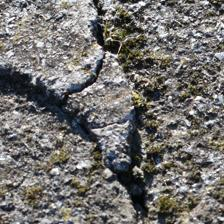Crack: (101, 0, 161, 126), (21, 34, 91, 84), (9, 93, 54, 122)
